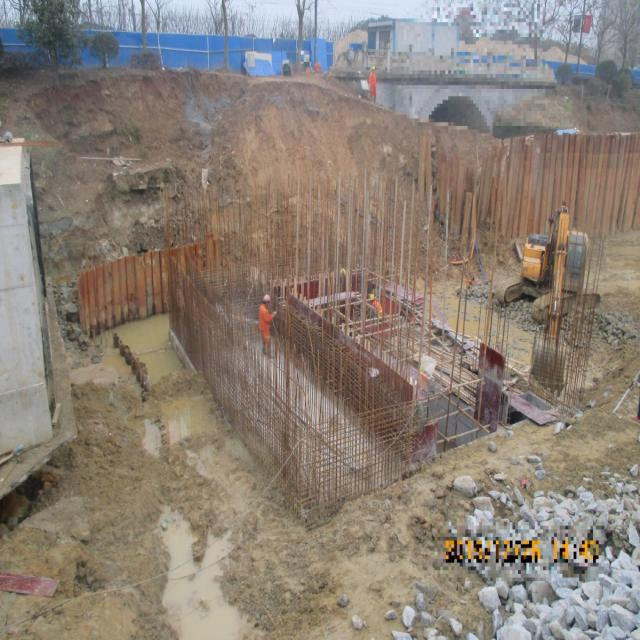excavator: (494, 198, 600, 399)
